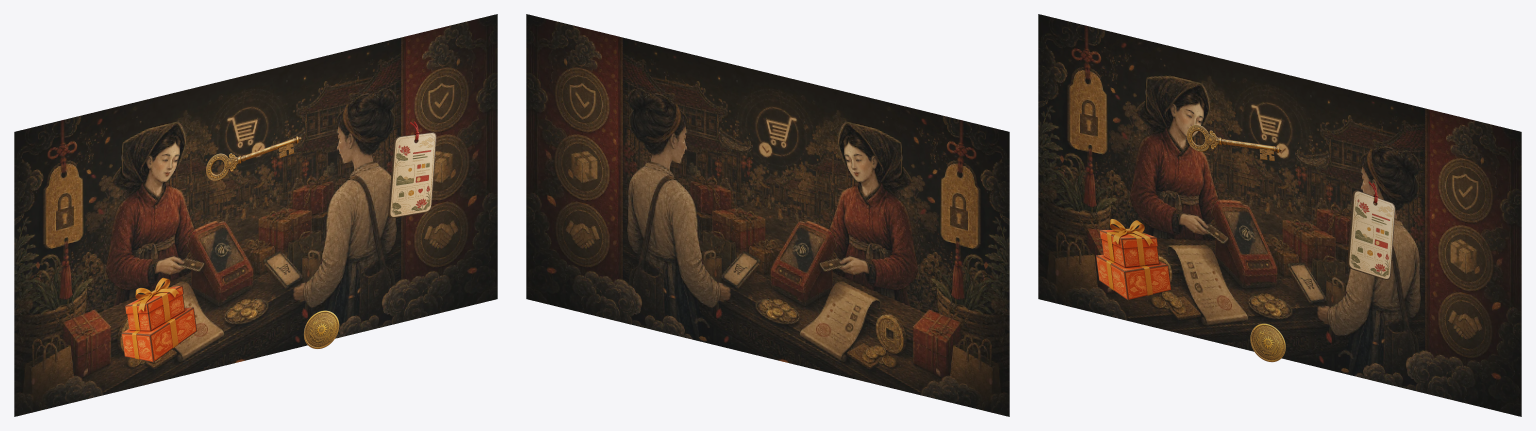
File: Checkout_bg_diffuse-optimized-050c6b55e4.glb
3 views of the same model, side by side, from view 1: azimuth 30°, elevation 25°; view 2: azimuth 150°, elevation 25°; view 3: azimuth 330°, elevation 25° (orthographic).
Parts seen in each view (by area): view 1: Vietfolk_checkout_background, Vietfolk_checkout_giftbox, Vietfolk_checkout_tag, Vietfolk_checkout_coin, Vietfolk_checkout_key; view 2: Vietfolk_checkout_background; view 3: Vietfolk_checkout_background, Vietfolk_checkout_giftbox, Vietfolk_checkout_tag, Vietfolk_checkout_coin, Vietfolk_checkout_key.
Part boxes in pixels (x1,y1,x2,y2): Vietfolk_checkout_background: (14,14,497,416); Vietfolk_checkout_giftbox: (121,277,196,362); Vietfolk_checkout_tag: (388,121,436,218); Vietfolk_checkout_coin: (303,310,339,348); Vietfolk_checkout_key: (206,136,301,180); Vietfolk_checkout_background: (526,14,1009,416); Vietfolk_checkout_background: (1038,14,1521,416); Vietfolk_checkout_giftbox: (1096,219,1171,300); Vietfolk_checkout_tag: (1347,181,1395,279); Vietfolk_checkout_coin: (1250,323,1285,362); Vietfolk_checkout_key: (1186,124,1281,161).
Size of the model in its own units: 3.6 by 2.03 by 0.5.
Materials: 5 (5 with a texture image).
